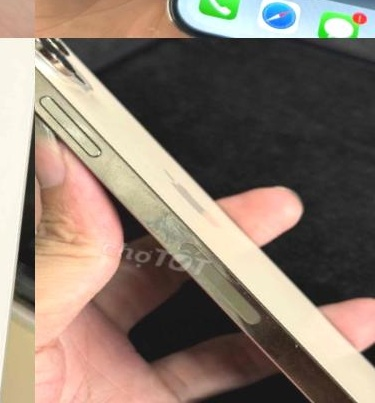scratch: (124, 195, 233, 278), (289, 335, 303, 355)
